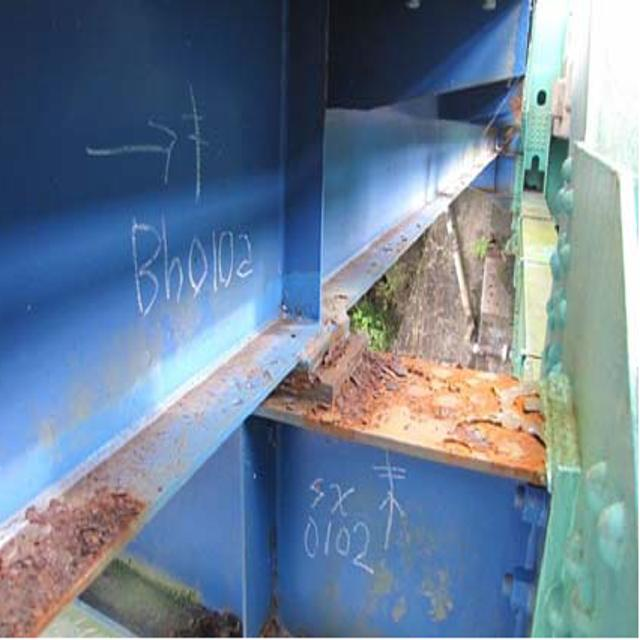corrosion: (289, 303, 564, 494), (9, 486, 127, 633)
